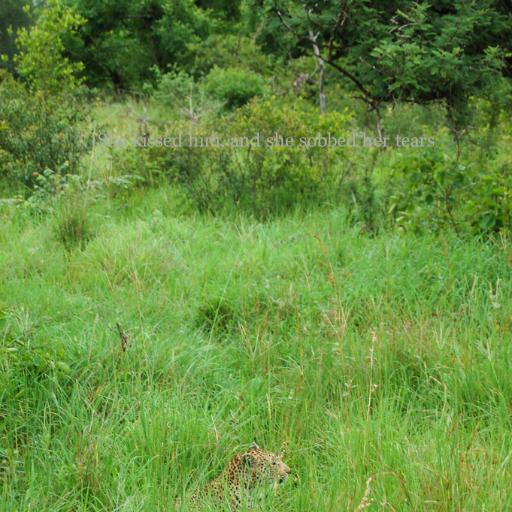Georgia: (97, 132, 435, 150)
